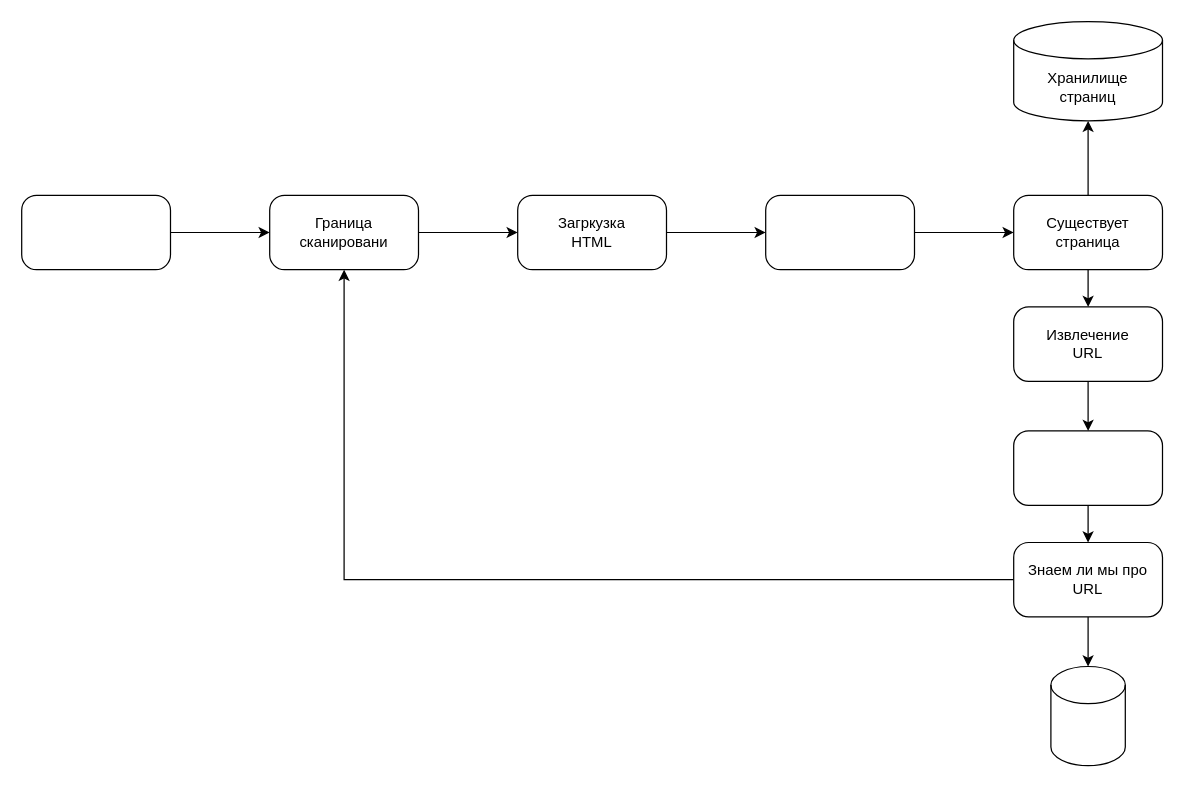
This 1184x787 diagram has some shape labels left out. Each missing label, with the centre of its shape:
"Анализ контента" belongs at point (839, 232).
"Исходный URL" belongs at point (95, 232).
"Фильтр URL" belongs at point (1087, 467).
